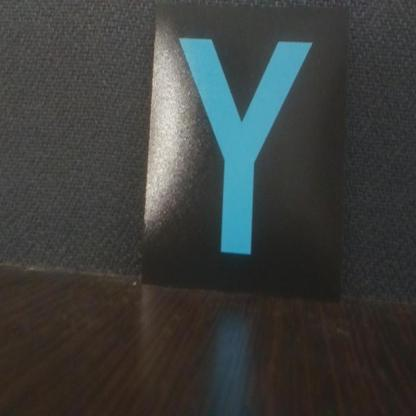y: (155, 5, 341, 292)
